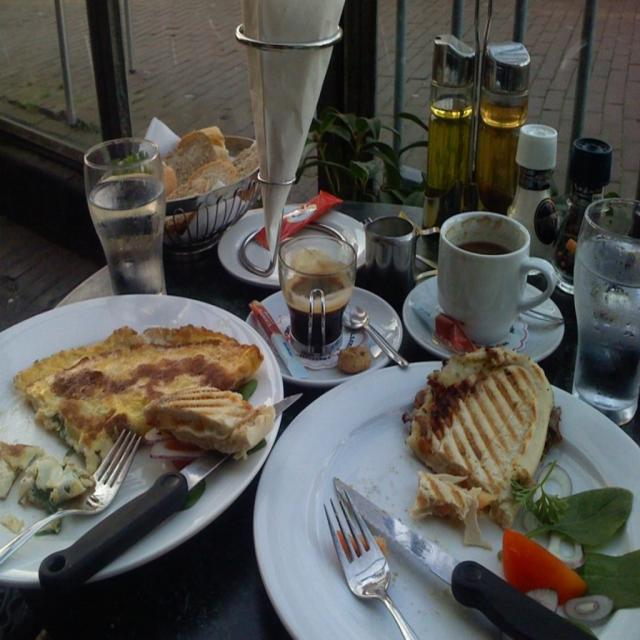Tea: (281, 254, 351, 355), (457, 241, 515, 254)
